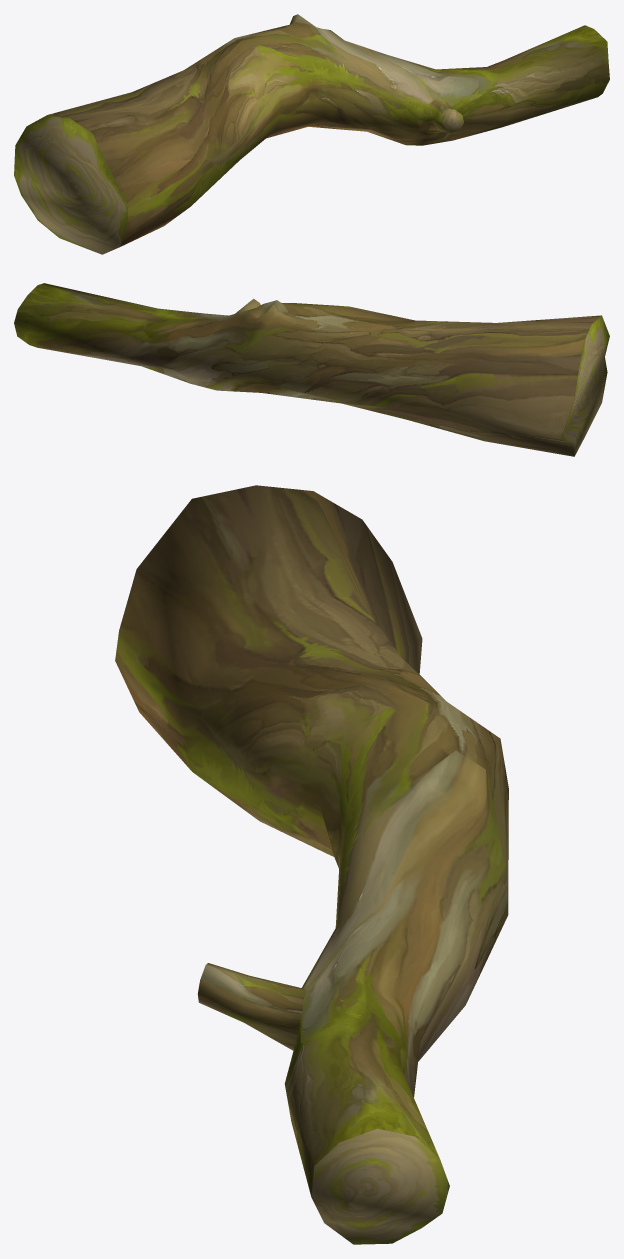
The model's file is Map_07_wooden10.FBX.
The picture shows the model from 3 angles, top to bottom: view 1: azimuth 30°, elevation 25°; view 2: azimuth 150°, elevation 25°; view 3: azimuth 270°, elevation 25°; orthographic projection. The views are drawn at different scales.
Visible parts, largest first — view 1: Map_07_wooden10; view 2: Map_07_wooden10; view 3: Map_07_wooden10.
Part boxes in pixels (left/top/right/bottom): Map_07_wooden10: left=14, top=14, right=609, bottom=254; Map_07_wooden10: left=14, top=283, right=609, bottom=456; Map_07_wooden10: left=115, top=485, right=508, bottom=1244.
Size of the model in its own units: 669 by 147 by 209.
1 material, 1 textured.
